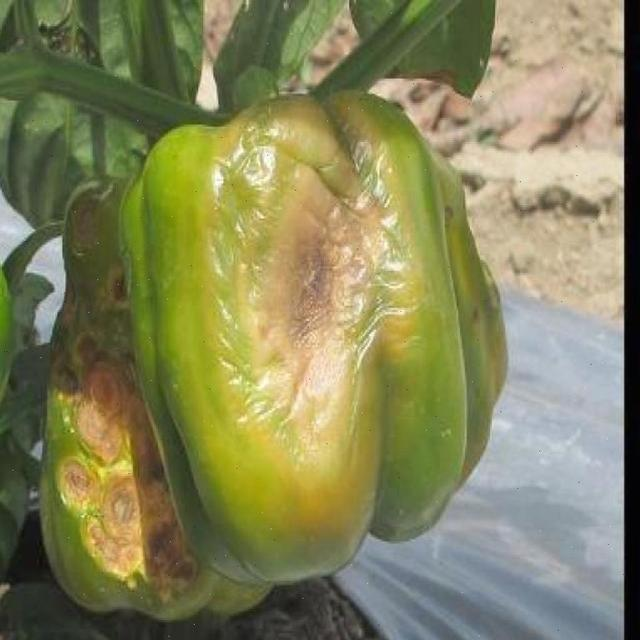Sunscald Fruit: (124, 56, 287, 336)
